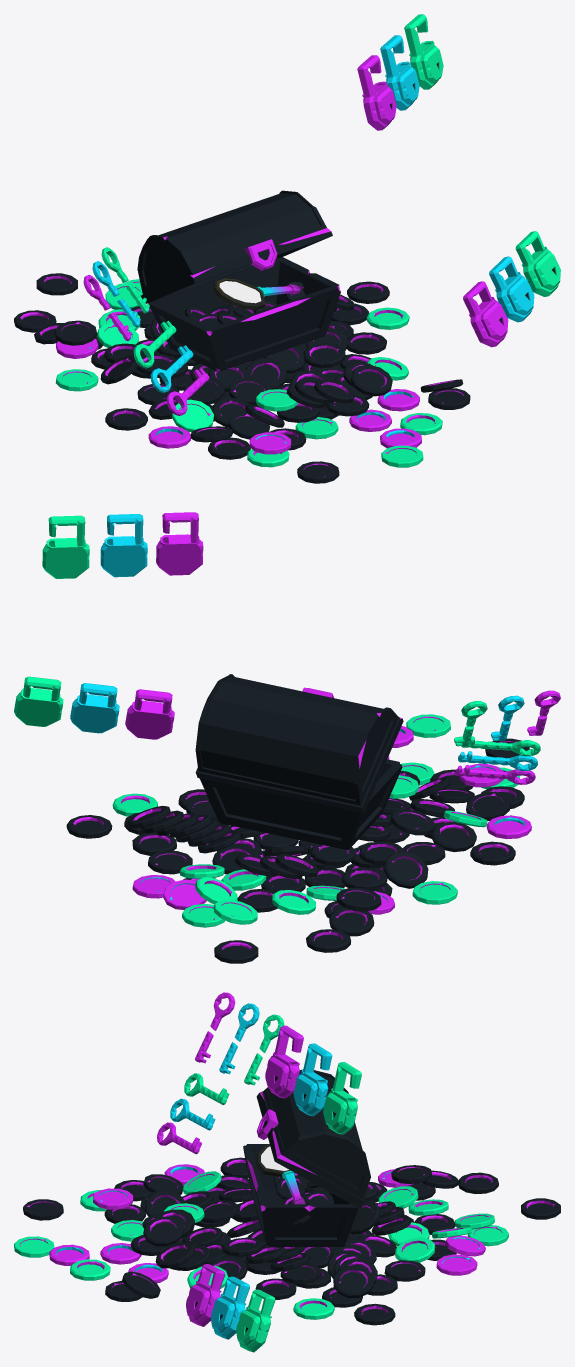
The model's file is full_scene.glb.
3 views of the same model, one above another, from view 1: azimuth 30°, elevation 25°; view 2: azimuth 150°, elevation 25°; view 3: azimuth 270°, elevation 25° (orthographic). The views are drawn at different scales.
Parts seen in each view (by area): view 1: Circle.058, Plane.001, Circle.012, Circle.013; view 2: Circle.058, Plane.001, Circle.012; view 3: Circle.058, Circle.012, Plane.001, Circle.013.
Boxes of the visible parts, x1,y1,x2,y2 form: Circle.058: (14, 273, 470, 483); Plane.001: (137, 190, 340, 371); Circle.012: (83, 14, 560, 415); Circle.013: (213, 278, 300, 310); Circle.058: (66, 714, 531, 963); Plane.001: (195, 674, 403, 850); Circle.012: (14, 512, 560, 784); Circle.058: (14, 1157, 560, 1325); Circle.012: (157, 992, 361, 1352); Plane.001: (243, 1069, 370, 1246); Circle.013: (256, 1143, 305, 1204).
Size of what is drawn, in the model's own units: 14.99 by 8.03 by 14.92.
Materials: 3 (3 with a texture image).
